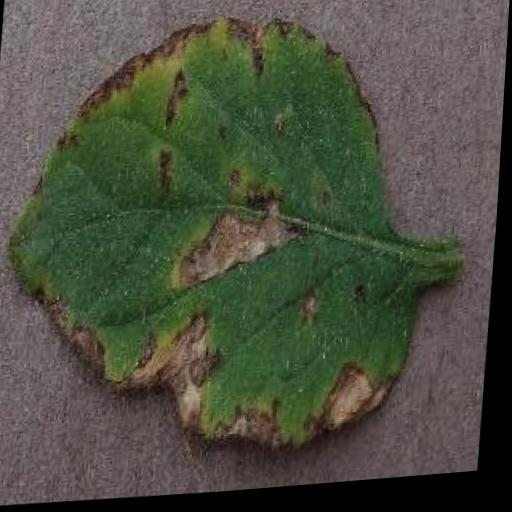Bacterial Spot: (0, 6, 445, 476)
